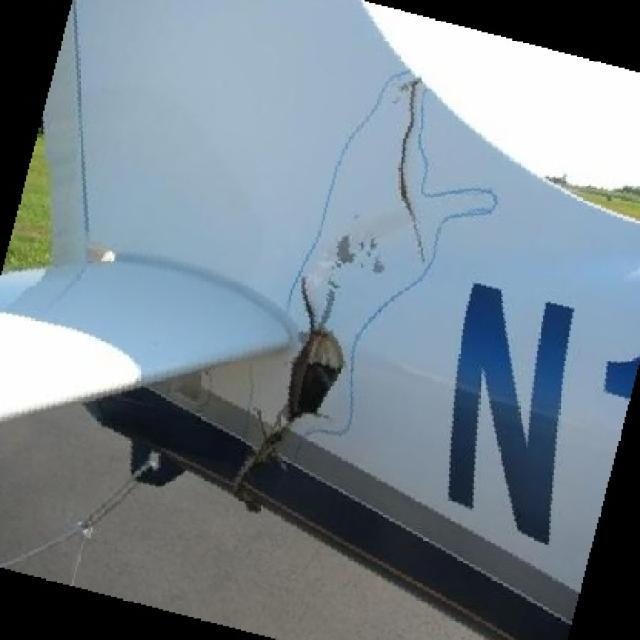crack: (386, 86, 451, 280)
